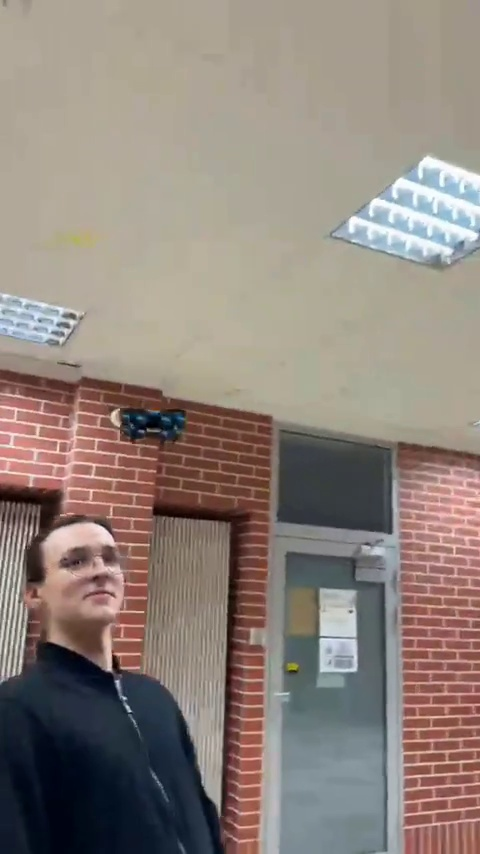drone: (117, 408, 188, 443)
no vest: (3, 514, 233, 854)
